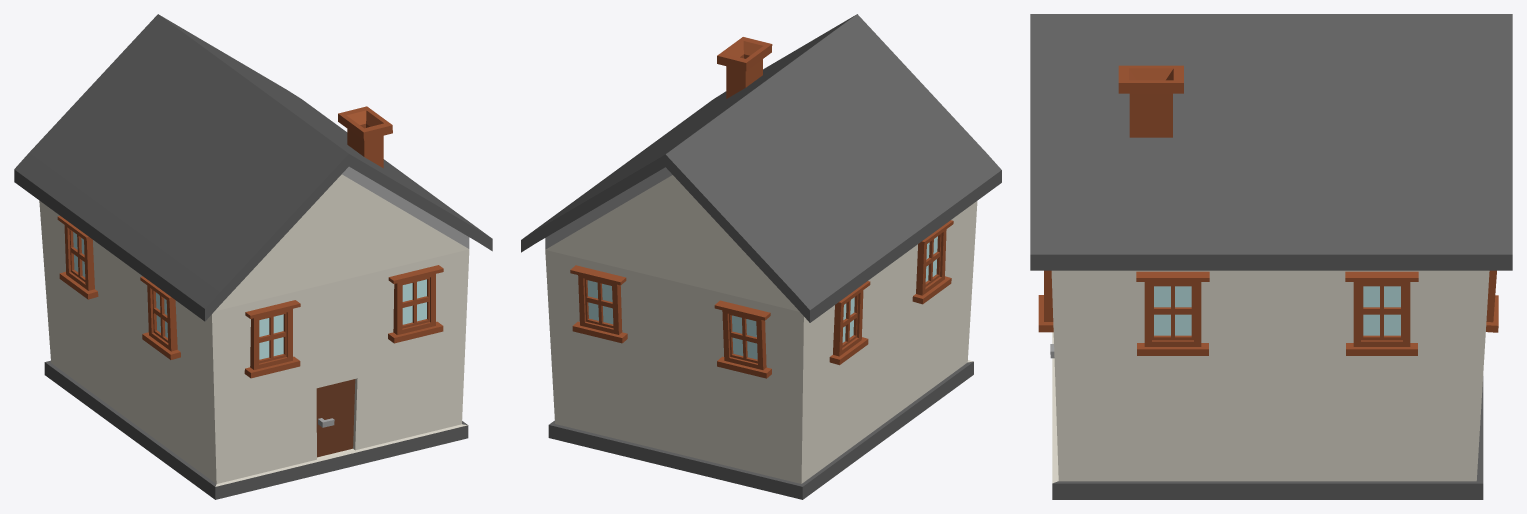
Rendered from house2.glb.
3 views of the same model, side by side, from view 1: azimuth 30°, elevation 25°; view 2: azimuth 150°, elevation 25°; view 3: azimuth 270°, elevation 25° (orthographic). The views are drawn at different scales.
Visible parts, largest first — view 1: House2_Cube.035; view 2: House2_Cube.035; view 3: House2_Cube.035.
Boxes of the visible parts, x1,y1,x2,y2 form: House2_Cube.035: (14,14,492,499); House2_Cube.035: (521,14,1001,499); House2_Cube.035: (1030,14,1512,499).
Bounding box in the file's own units: 1.25 × 1.34 × 1.44.
1 material, 1 textured.
